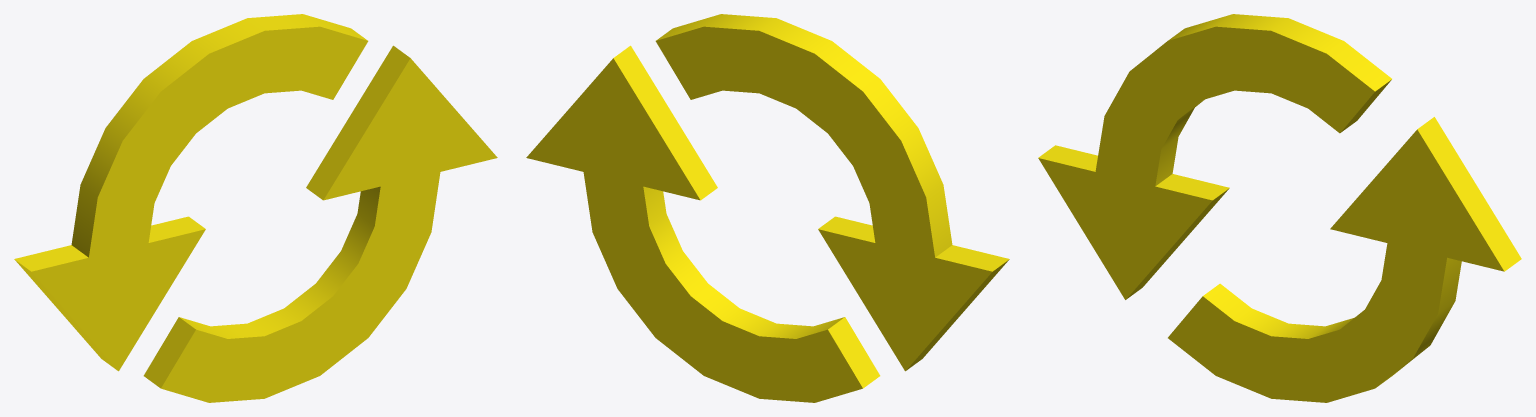
Rendered from Icon_ReverseCam.FBX.
The picture shows the model from 3 angles, left to right: view 1: azimuth 30°, elevation 25°; view 2: azimuth 150°, elevation 25°; view 3: azimuth 330°, elevation 25°; orthographic projection.
Parts seen in each view (by area): view 1: Icon_ReverseCam; view 2: Icon_ReverseCam; view 3: Icon_ReverseCam.
Part boxes in pixels (left/top/right/bottom): Icon_ReverseCam: left=14, top=14, right=497, bottom=402; Icon_ReverseCam: left=526, top=14, right=1009, bottom=402; Icon_ReverseCam: left=1038, top=14, right=1521, bottom=402.
Bounding box in the file's own units: 0.5004 × 0.3772 × 0.0322.
